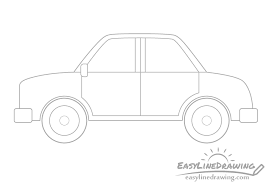car: (11, 25, 264, 152)
